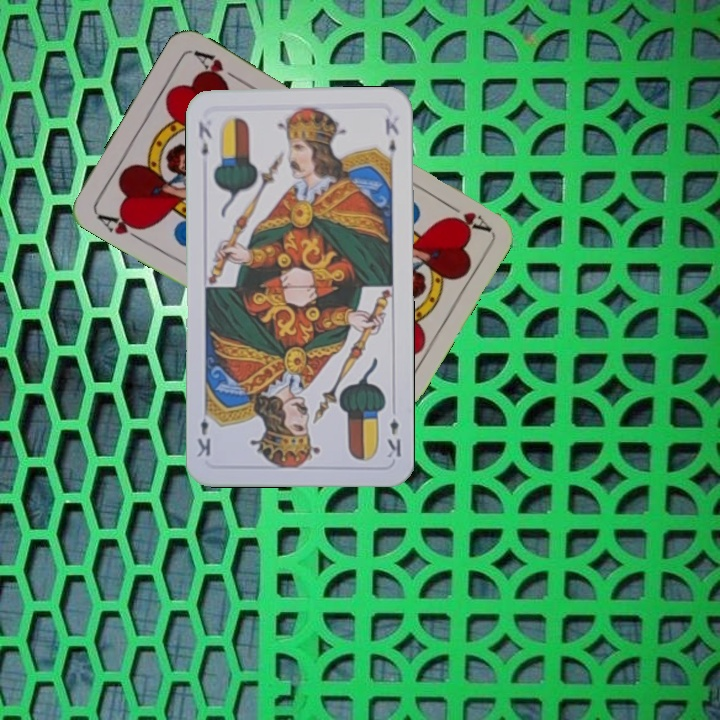EK: (384, 414, 404, 460), (194, 118, 214, 159)
HA: (93, 209, 149, 245), (438, 197, 492, 234)
